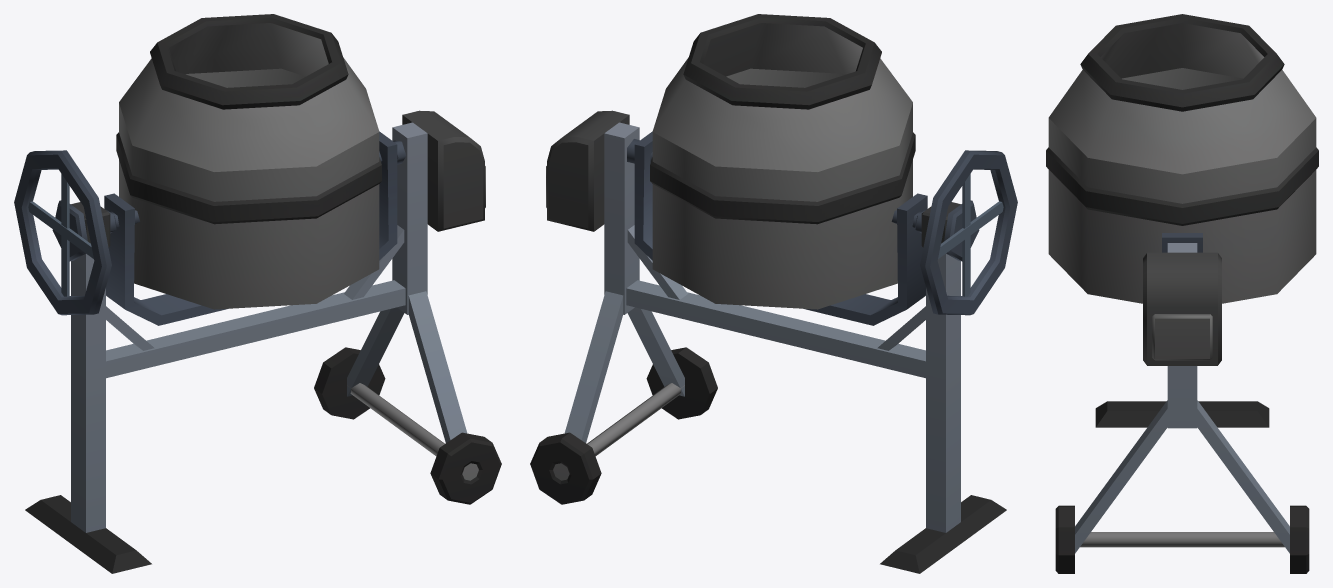
The model's file is CementMixer_E.glb.
The picture shows the model from 3 angles, left to right: view 1: azimuth 30°, elevation 25°; view 2: azimuth 150°, elevation 25°; view 3: azimuth 270°, elevation 25°; orthographic projection.
Parts seen in each view (by area): view 1: Top5, CementMixer.001; view 2: Top5, CementMixer.001; view 3: Top5, CementMixer.001.
Boxes of the visible parts, left/top/right/bottom form: Top5: left=14, top=14, right=406, bottom=325; CementMixer.001: left=25, top=110, right=501, bottom=573; Top5: left=627, top=14, right=1017, bottom=325; CementMixer.001: left=530, top=110, right=1006, bottom=573; Top5: left=1046, top=14, right=1318, bottom=303; CementMixer.001: left=1055, top=243, right=1309, bottom=573.
Size of the model in its own units: 0.6675 by 0.6854 by 0.3837.
2 materials, 2 textured.
